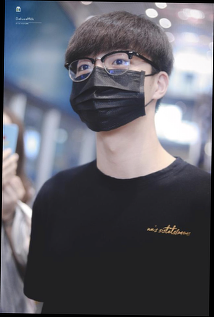with_mask: (69, 43, 160, 133)
